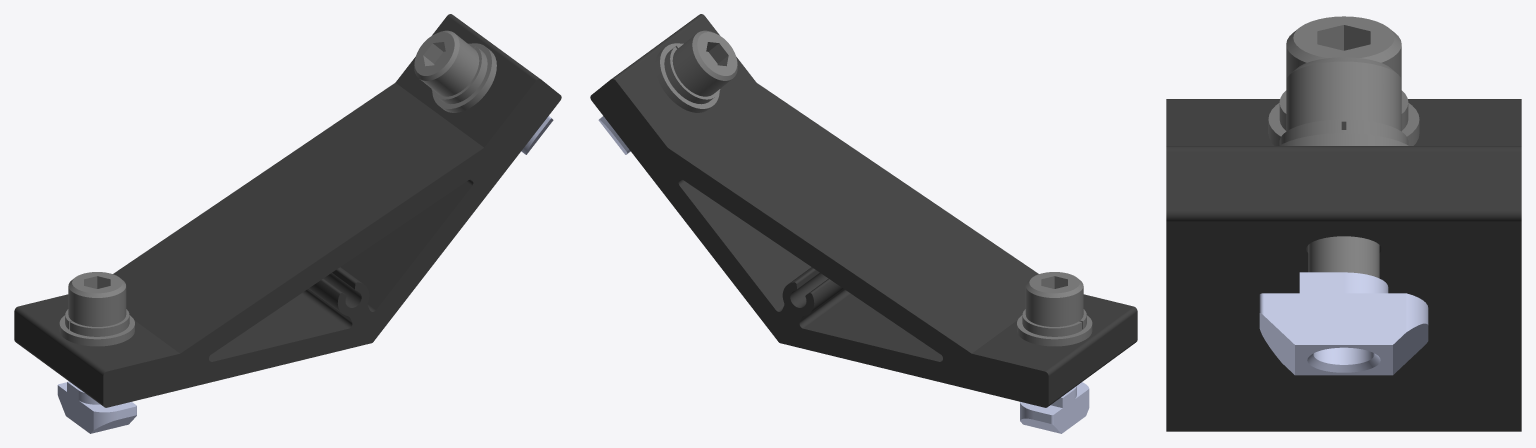
Rendered from TPLG-TPLG3-5010-70A40-Z-ZP.glb.
The picture shows the model from 3 angles, left to right: view 1: azimuth 30°, elevation 25°; view 2: azimuth 150°, elevation 25°; view 3: azimuth 270°, elevation 25°; orthographic projection. The views are drawn at different scales.
Parts seen in each view (by area): view 1: NAUO1, NAUO4, NAUO2, NAUO3; view 2: NAUO1, NAUO4, NAUO2, NAUO3; view 3: NAUO1, NAUO5, NAUO4, NAUO2.
Boxes of the visible parts, x1,y1,x2,y2 form: NAUO1: [14, 14, 561, 407]; NAUO4: [414, 30, 496, 112]; NAUO2: [59, 272, 134, 346]; NAUO3: [57, 381, 136, 433]; NAUO1: [590, 14, 1137, 407]; NAUO4: [655, 30, 737, 112]; NAUO2: [1017, 272, 1092, 346]; NAUO3: [1020, 382, 1089, 433]; NAUO1: [1166, 99, 1521, 431]; NAUO5: [1259, 272, 1428, 375]; NAUO4: [1279, 57, 1408, 278]; NAUO2: [1268, 16, 1419, 145].
Bounding box in the file's own units: 0.1254 × 0.0745 × 0.04.
